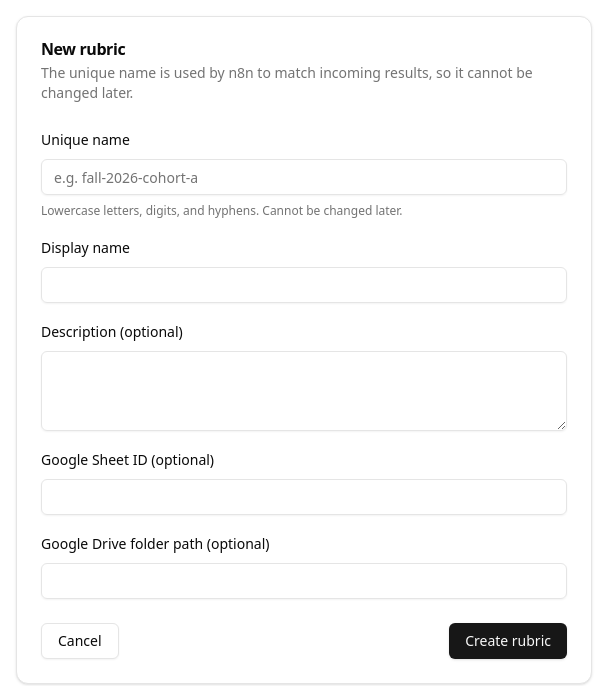
RubricNewPage › surfaces a duplicate-name error from the backend
In the field labelled "Unique name": (304, 177) [41,159,567,195], type "taken"
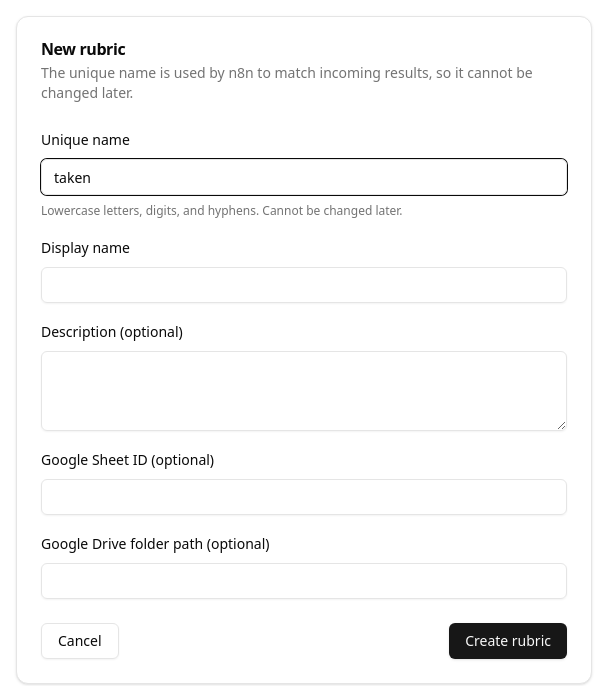
In the field labelled "Display name": (304, 285) [41,267,567,303], type "Taken"
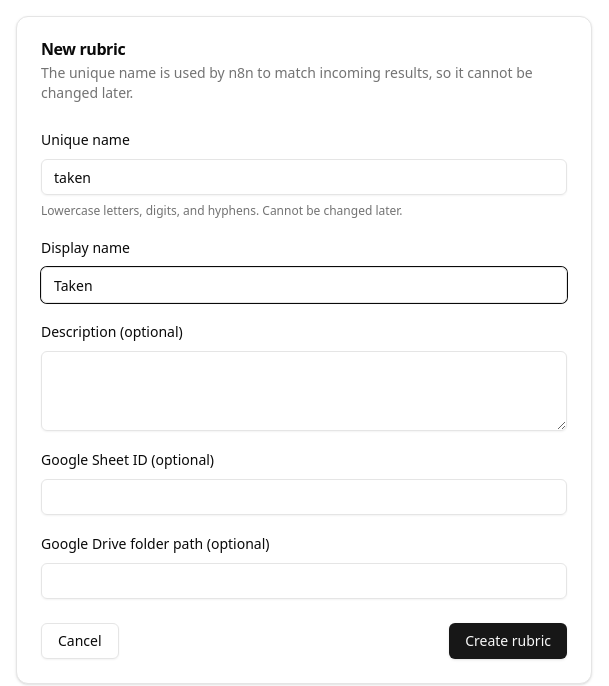
Click the button "Create rubric": (508, 641) [449,623,567,659]
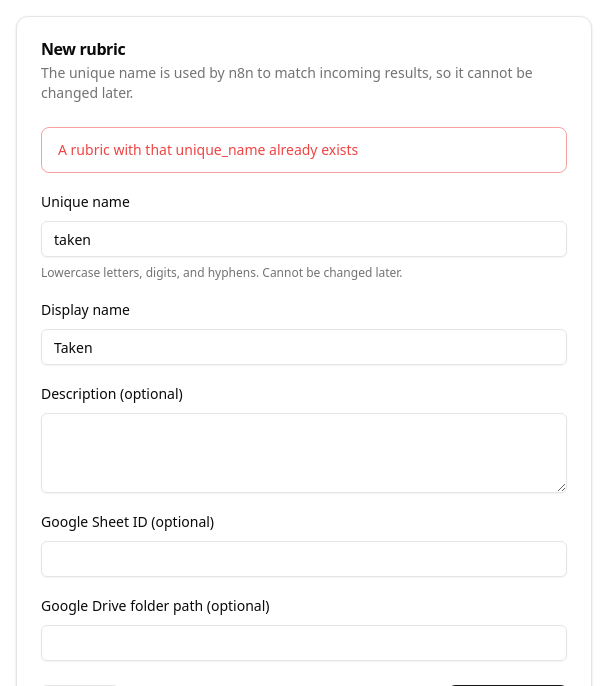
Expected: the message with test id "rubric-new-error" shows "already exists", [58,140,358,159]
